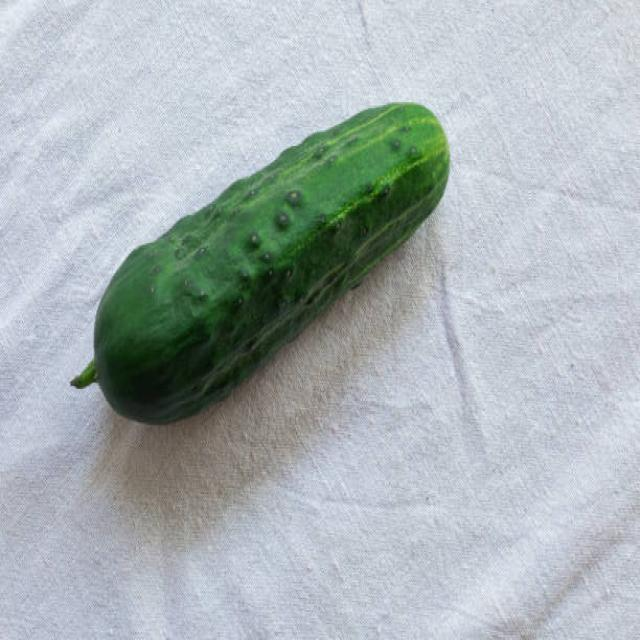cucumber: (94, 101, 450, 427)
